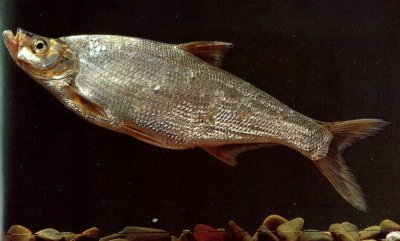fish: (4, 26, 389, 217)
